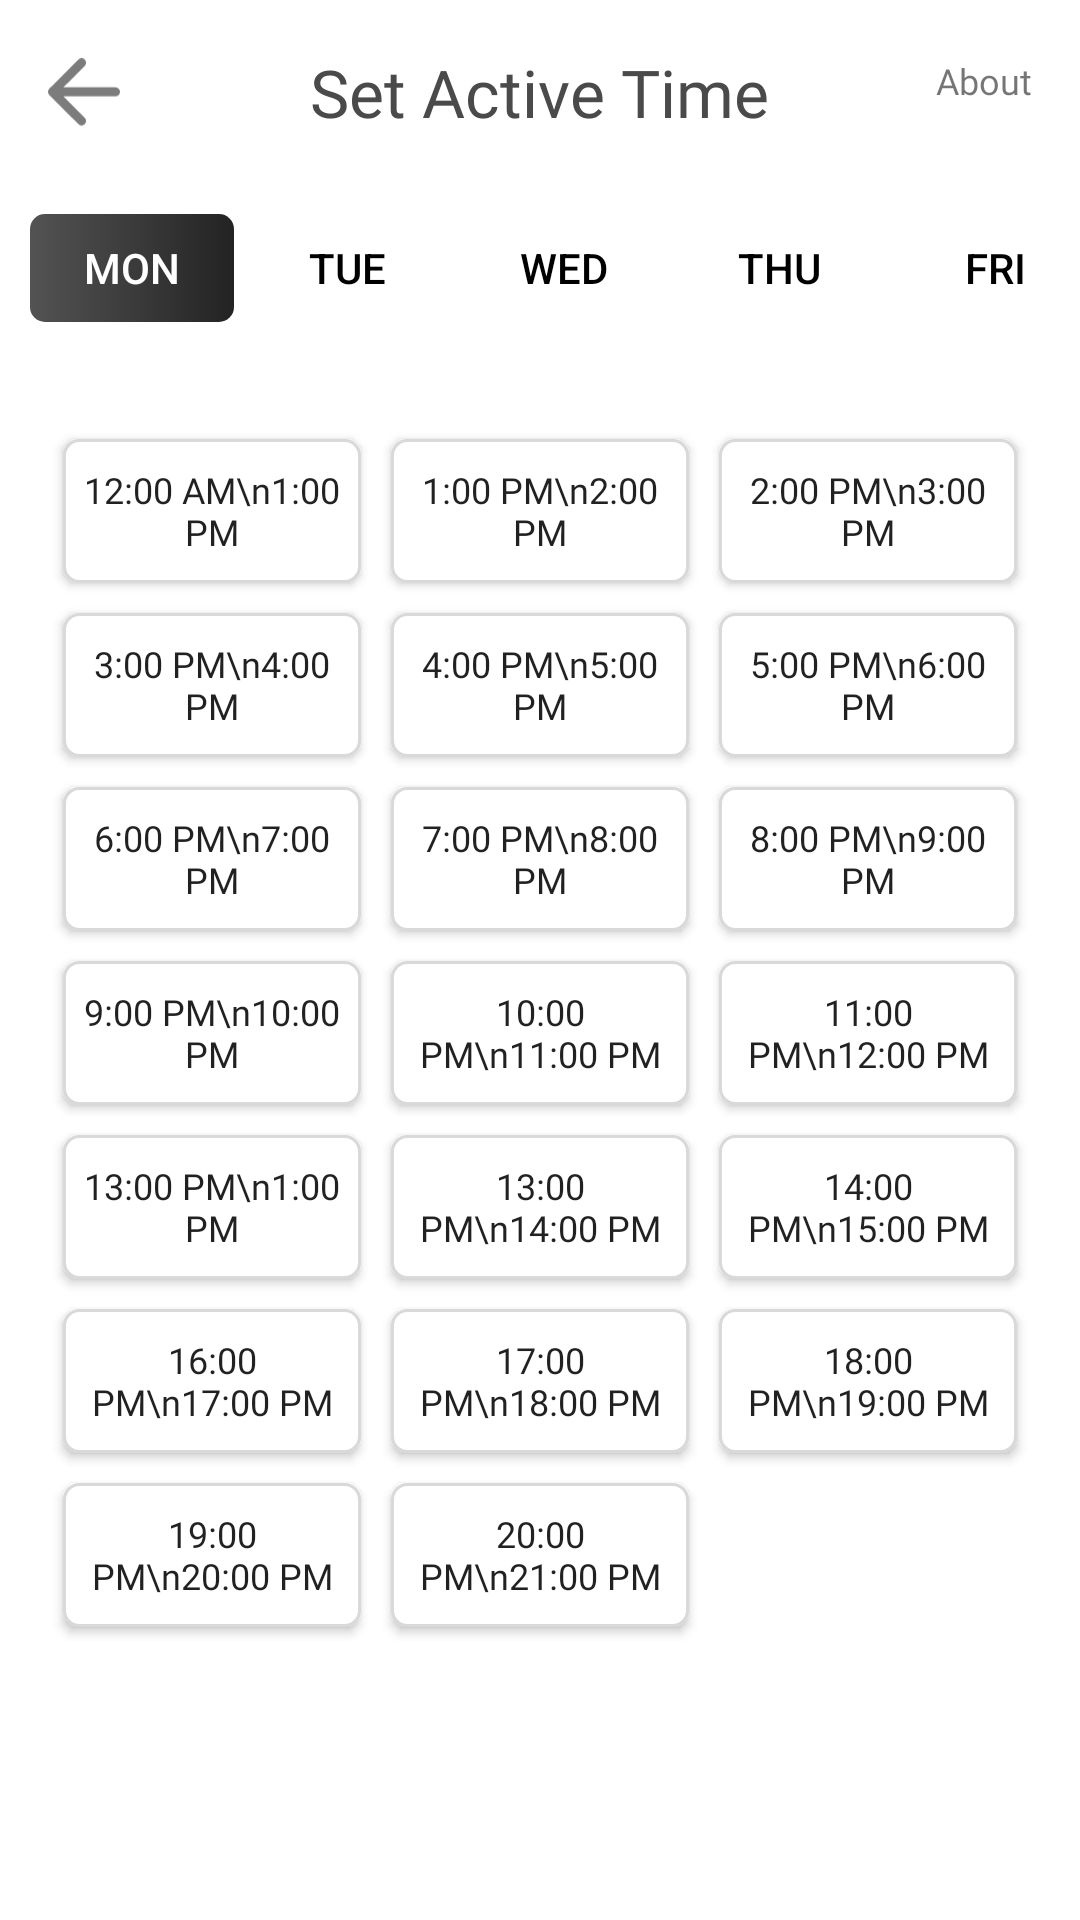

Where to tap for icons on this 1080px x 1920px app screen, as point (x, y):
Back Button: point (84, 92)
